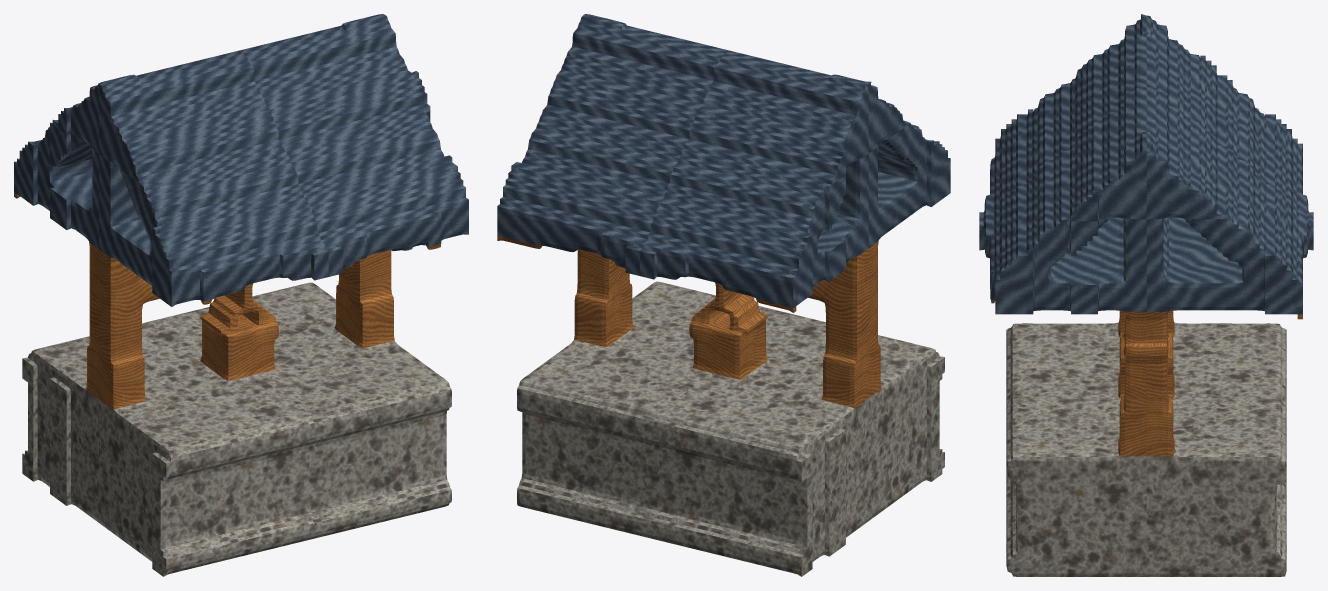
File: prop_well_village.glb
The picture shows the model from 3 angles, left to right: view 1: azimuth 30°, elevation 25°; view 2: azimuth 150°, elevation 25°; view 3: azimuth 270°, elevation 25°; orthographic projection. The views are drawn at different scales.
Parts seen in each view (by area): view 1: town_prop_well_village; view 2: town_prop_well_village; view 3: town_prop_well_village.
Boxes of the visible parts, x1,y1,x2,y2 form: town_prop_well_village: [14, 14, 468, 576]; town_prop_well_village: [497, 14, 950, 576]; town_prop_well_village: [979, 14, 1313, 576].
Size of the model in its own units: 1.68 by 2.38 by 1.68.
Materials: 1 (1 with a texture image).
